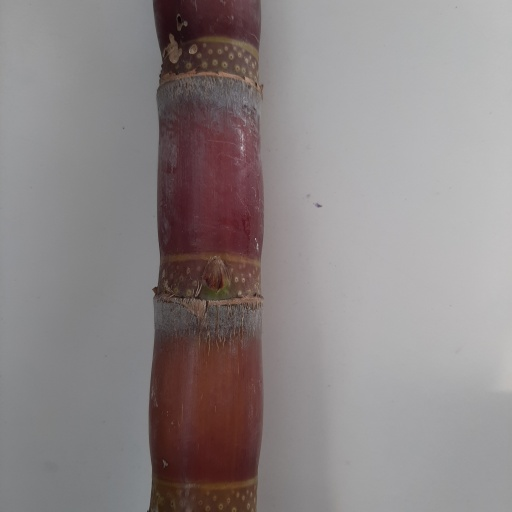Bud: (203, 256, 232, 293)
